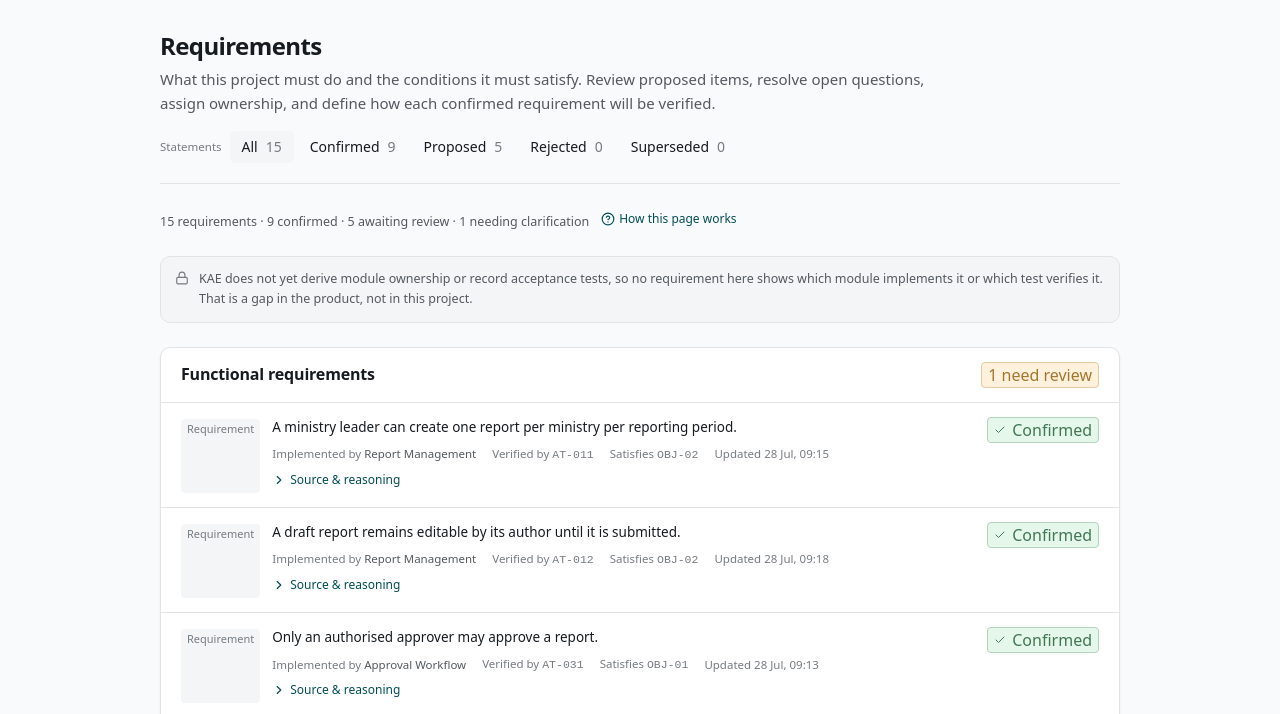
Test: Requirements › discloses provenance on demand rather than by default
Expected: the text "Only an authorised approver may approve a report." is shown, [272,628,598,646]
Click the button "Source & reasoning" below "AT-011" at (336, 480), box [272,471,400,489]
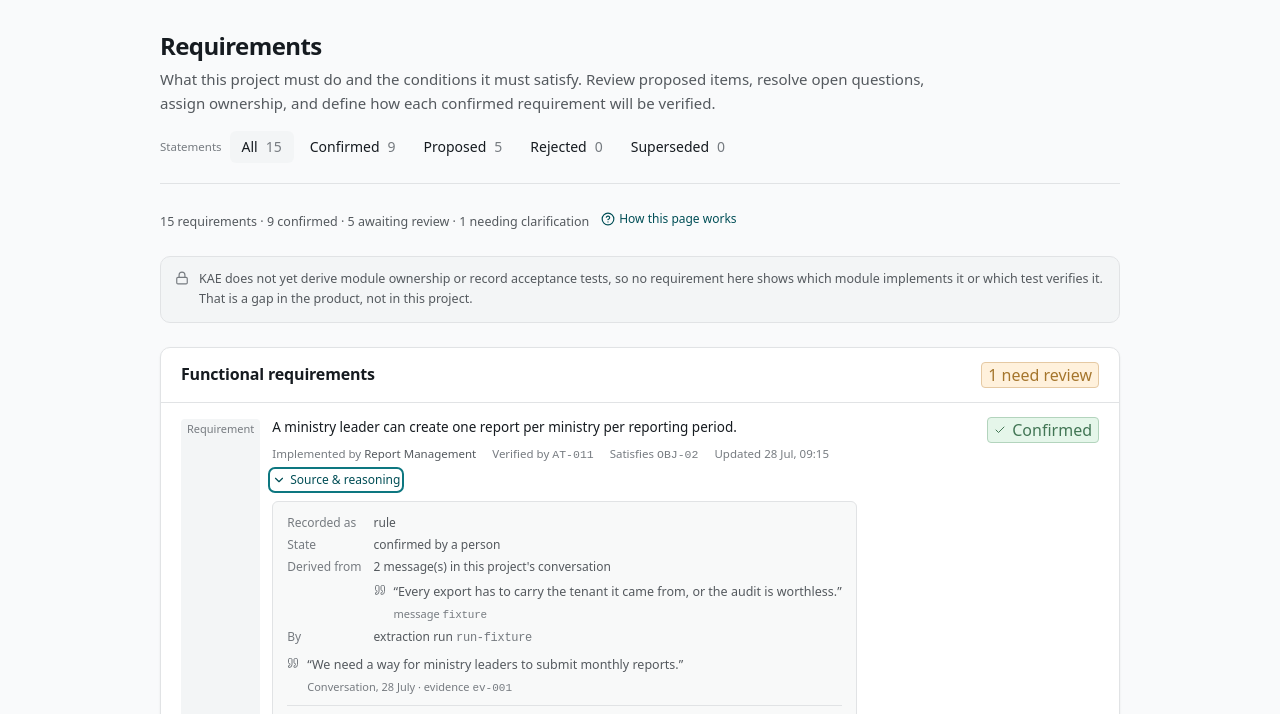
Now the text "“We need a way for ministry leaders to submit monthly reports.”" is shown, box [307,655,683,675]
